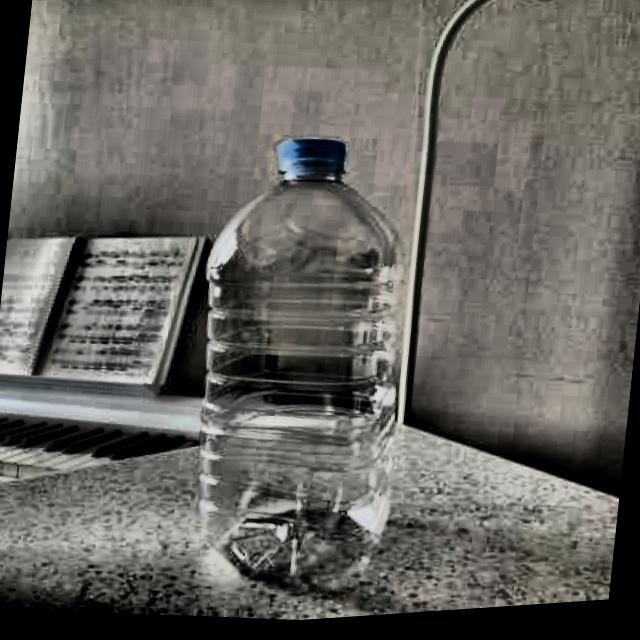Bottles: (160, 122, 450, 608)
